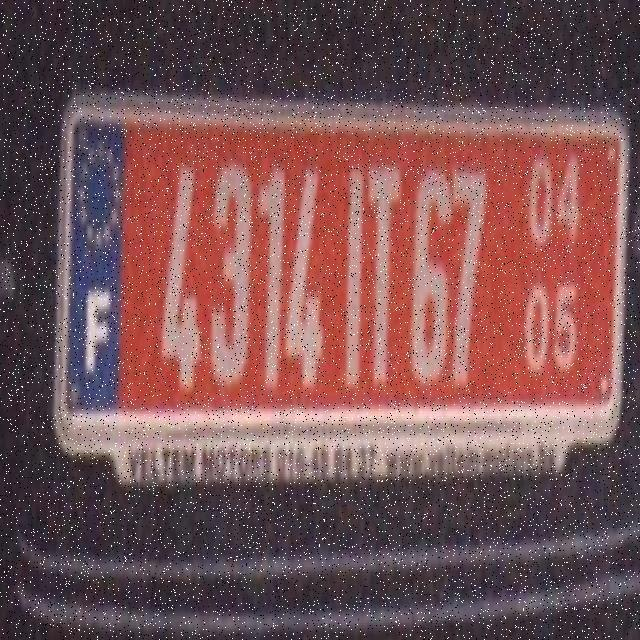LicensePlate: (49, 50, 640, 505)
